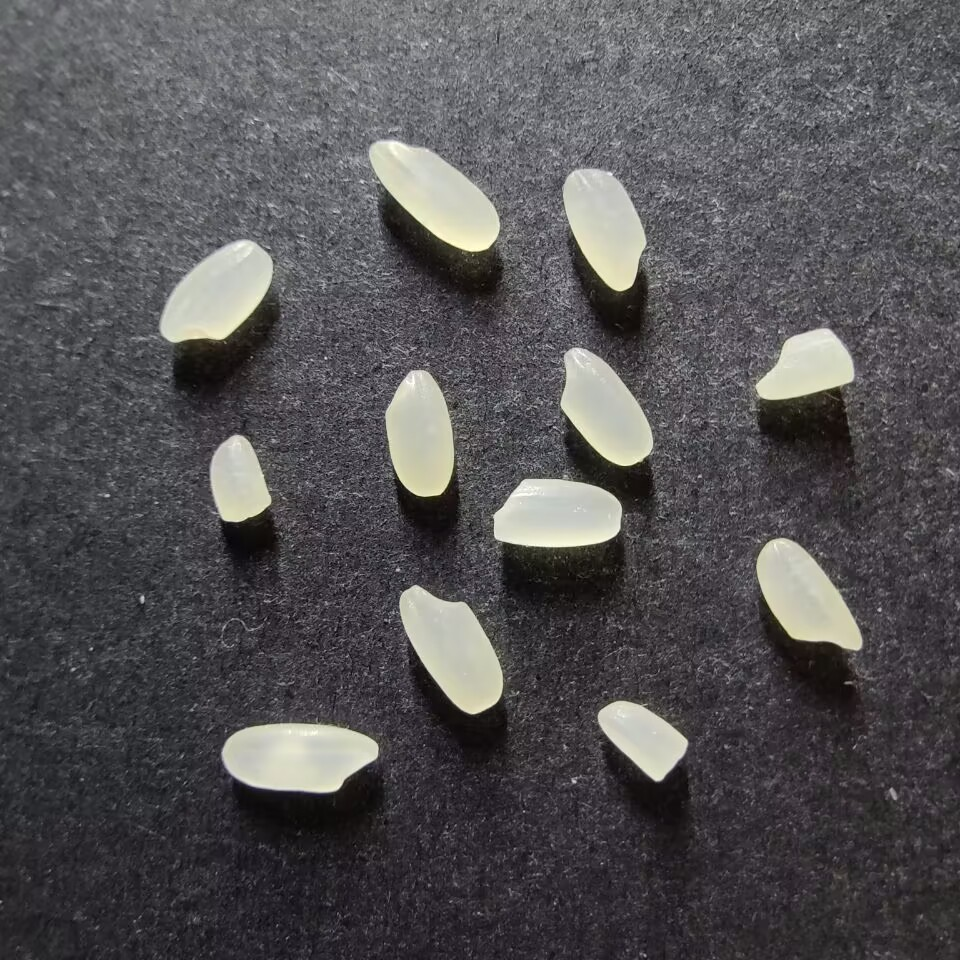broken: (596, 700, 688, 782), (754, 328, 855, 400), (209, 433, 271, 522)
rice: (367, 139, 500, 252), (397, 584, 503, 715), (755, 537, 863, 650), (159, 240, 273, 342), (559, 347, 654, 467), (222, 722, 378, 793), (561, 169, 646, 291), (492, 477, 622, 548), (384, 368, 455, 498)
